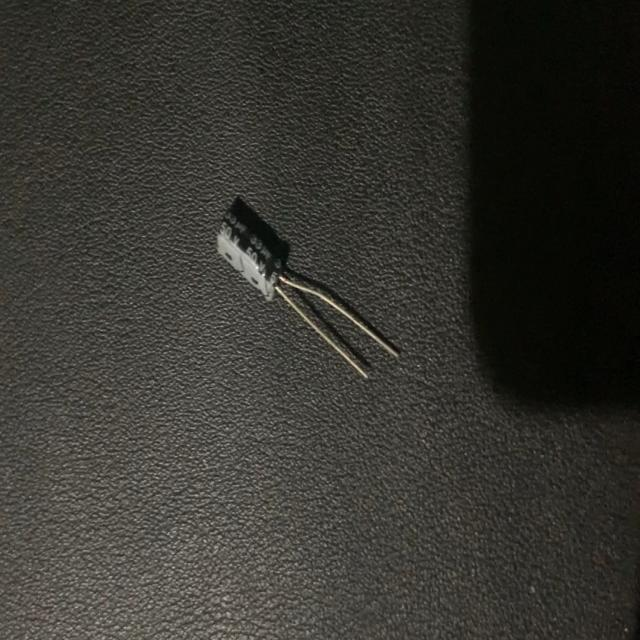capacitor: (214, 198, 402, 388)
